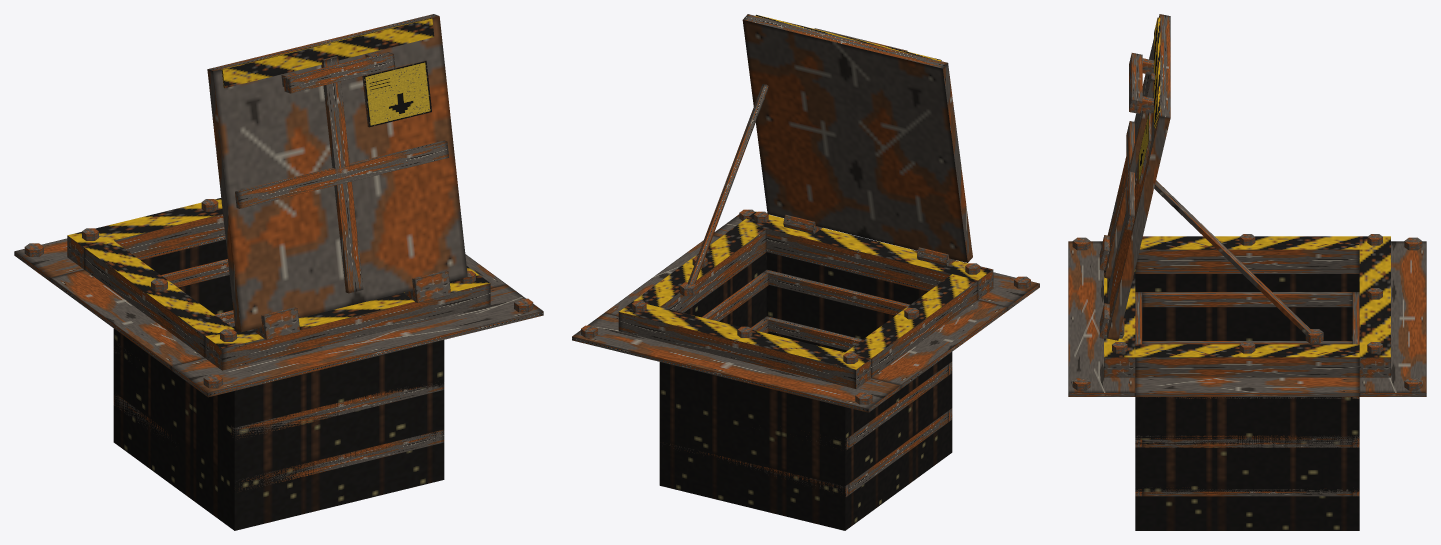
File: GarbageChute_Hatch.fbx
3 renders of one model, left to right at view 1: azimuth 30°, elevation 25°; view 2: azimuth 150°, elevation 25°; view 3: azimuth 270°, elevation 25°, orthographic. The views are drawn at different scales.
Parts seen in each view (by area): view 1: SM_GarbageChute_Hatch; view 2: SM_GarbageChute_Hatch; view 3: SM_GarbageChute_Hatch.
Boxes of the visible parts, x1,y1,x2,y2 form: SM_GarbageChute_Hatch: (14,14,543,530); SM_GarbageChute_Hatch: (572,14,1039,530); SM_GarbageChute_Hatch: (1068,14,1426,530).
Bounding box in the file's own units: 1.6 × 2.06 × 1.6.
Materials: 1 (1 with a texture image).
